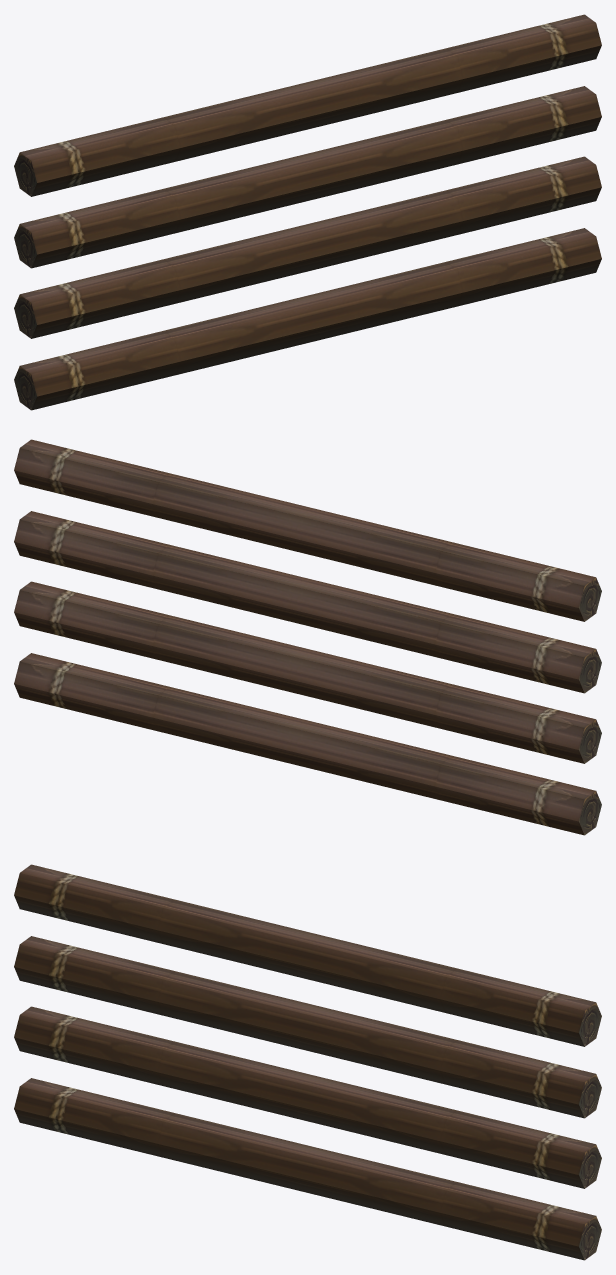
Rendered from scenes_beach_climb01.FBX.
The picture shows the model from 3 angles, top to bottom: view 1: azimuth 30°, elevation 25°; view 2: azimuth 150°, elevation 25°; view 3: azimuth 330°, elevation 25°; orthographic projection.
Visible parts, largest first — view 1: scenes_beach_climb01; view 2: scenes_beach_climb01; view 3: scenes_beach_climb01.
Boxes of the visible parts, x1,y1,x2,y2 form: scenes_beach_climb01: (14, 14, 601, 410); scenes_beach_climb01: (14, 439, 601, 835); scenes_beach_climb01: (14, 864, 601, 1260).
Bounding box in the file's own units: 466 × 197 × 32.98.
